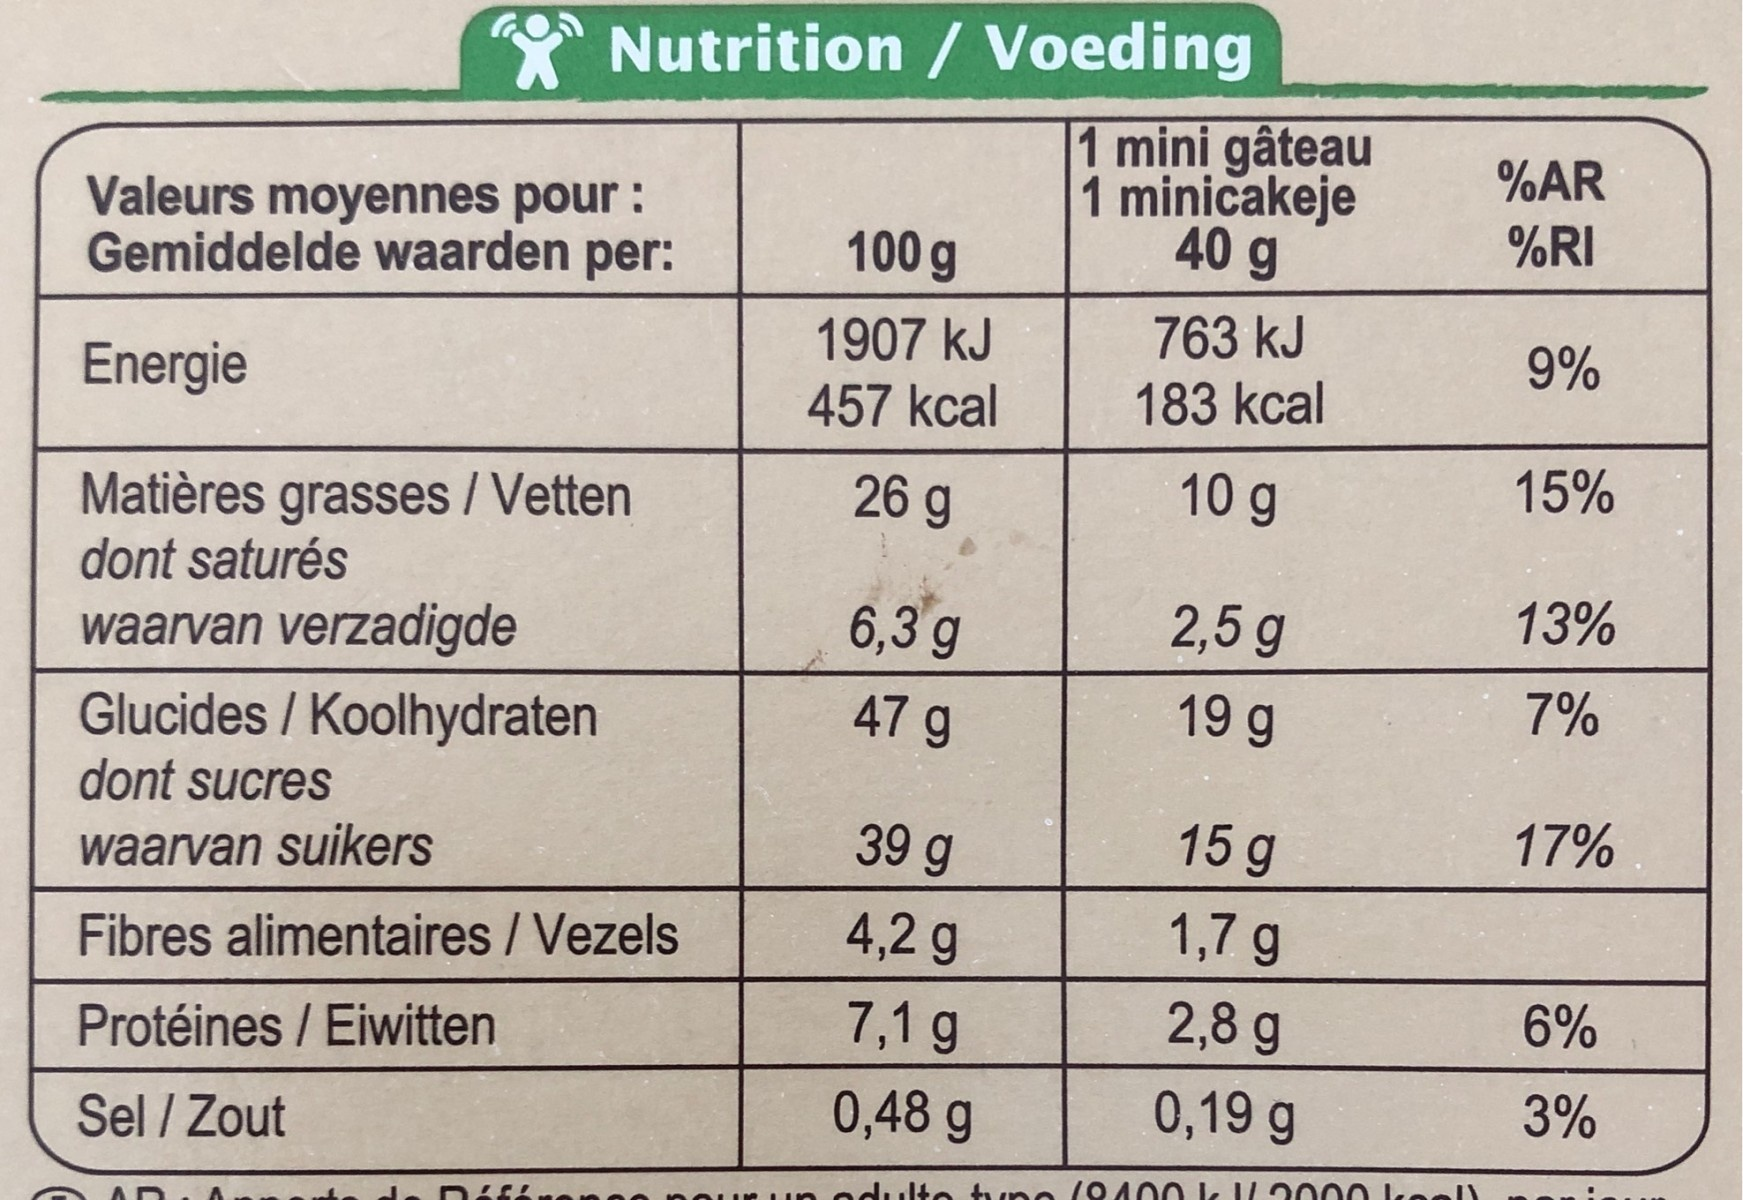column: (72, 114, 682, 1175), (1082, 113, 1380, 1159), (807, 113, 1003, 1164), (1491, 111, 1615, 1168)
table: (34, 113, 1715, 1179)
